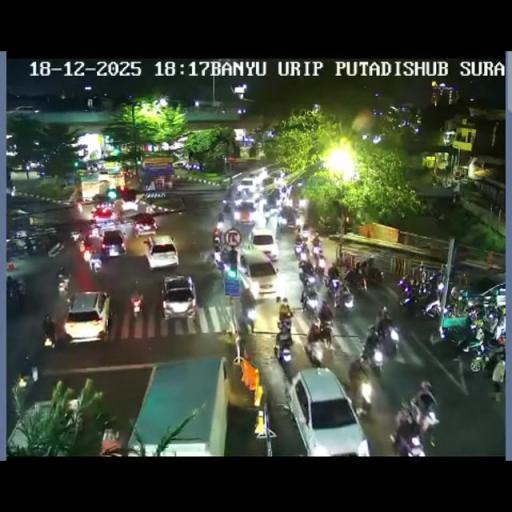Car: (213, 169, 291, 302), (121, 358, 226, 456), (286, 366, 367, 454), (62, 290, 110, 342), (160, 274, 197, 321), (463, 280, 505, 314), (144, 234, 178, 268), (249, 227, 277, 261), (100, 229, 127, 258), (132, 213, 158, 236), (234, 200, 257, 226), (238, 176, 262, 198), (118, 190, 140, 212), (92, 206, 114, 224), (259, 176, 276, 195), (12, 106, 38, 112), (172, 160, 189, 169), (98, 170, 110, 179)
Motorcycle: (292, 240, 350, 361), (392, 403, 437, 455), (462, 329, 504, 372), (362, 326, 400, 372), (428, 319, 468, 361), (342, 258, 385, 294), (415, 270, 443, 300), (272, 328, 294, 364), (398, 286, 422, 318), (14, 362, 38, 392), (442, 292, 468, 319), (302, 333, 322, 366), (40, 234, 65, 257), (491, 358, 504, 400), (234, 327, 248, 364), (6, 282, 23, 312), (301, 287, 319, 315), (334, 285, 352, 311), (6, 238, 27, 260), (318, 318, 333, 348), (424, 296, 442, 319), (130, 291, 144, 319), (23, 237, 43, 256), (57, 274, 71, 300), (243, 303, 255, 333), (453, 270, 468, 294), (375, 306, 392, 327), (42, 324, 56, 348), (212, 248, 226, 270), (264, 202, 280, 221), (88, 254, 102, 274), (278, 313, 292, 332), (311, 239, 323, 259), (298, 268, 310, 286), (68, 229, 82, 243), (280, 194, 294, 208), (294, 238, 304, 257), (222, 202, 232, 220), (328, 264, 338, 281), (256, 196, 266, 213), (277, 210, 287, 226), (82, 246, 92, 262), (89, 224, 100, 238), (298, 198, 308, 210), (213, 232, 221, 246), (216, 219, 224, 232), (301, 230, 308, 244)
